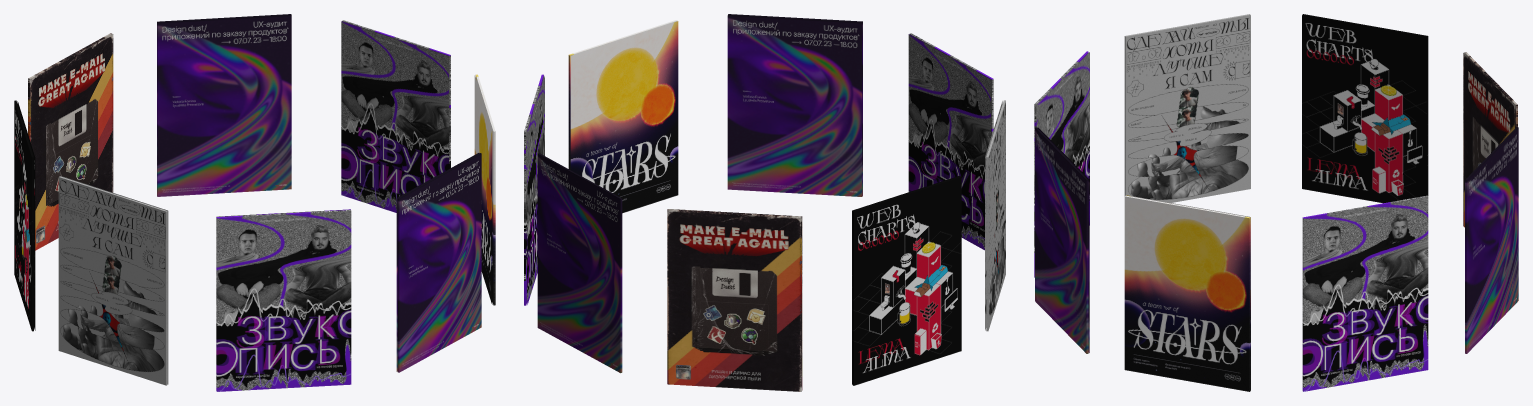
The picture shows the model from 3 angles, left to right: view 1: azimuth 30°, elevation 25°; view 2: azimuth 150°, elevation 25°; view 3: azimuth 270°, elevation 25°; orthographic projection.
Visible parts, largest first — view 1: 1_out, 5_in, 2_out, 6_in, 6_out.002, 4_in, 3_out, 6_in.001, 6_out.001, 6_out, 2_in, 6_in.002 (+3 smaller); view 2: 6_in.002, 4_out, 3_out, 6_in.001, 5_out, 1_in, 2_out, 6_in, 6_out, 6_out.001, 6_out.002, 2_in; view 3: 6_out.001, 6_out, 3_in, 2_in, 5_out, 6_out.002, 4_in, 1_in, 2_out, 3_out, 1_out, 6_in.002.
Boxes of the visible parts, <box> form: 1_out: <box>216,210,351,391</box>; 5_in: <box>157,15,291,196</box>; 2_out: <box>58,176,167,385</box>; 6_in: <box>341,21,448,212</box>; 6_out.002: <box>397,153,481,372</box>; 4_in: <box>30,34,113,250</box>; 3_out: <box>14,100,33,331</box>; 6_in.001: <box>474,75,492,304</box>; 6_out.001: <box>475,74,495,305</box>; 6_out: <box>342,20,450,168</box>; 2_in: <box>60,176,168,384</box>; 6_in.002: <box>396,153,478,371</box>; 6_in.002: <box>727,15,862,196</box>; 4_out: <box>667,209,801,391</box>; 3_out: <box>852,176,961,385</box>; 6_in.001: <box>570,21,678,213</box>; 5_out: <box>537,153,622,373</box>; 1_in: <box>908,34,990,250</box>; 2_out: <box>986,100,1005,331</box>; 6_in: <box>527,76,544,304</box>; 6_out: <box>524,74,543,305</box>; 6_out.001: <box>568,20,677,169</box>; 6_out.002: <box>728,14,862,196</box>; 2_in: <box>985,101,1002,330</box>; 6_out.001: <box>1124,195,1250,391</box>; 6_out: <box>1302,195,1428,391</box>; 3_in: <box>1302,15,1426,203</box>; 2_in: <box>1126,15,1250,202</box>; 5_out: <box>1465,127,1518,353</box>; 6_out.002: <box>1035,127,1088,353</box>; 4_in: <box>1463,53,1514,227</box>; 1_in: <box>1037,52,1089,225</box>; 2_out: <box>1124,14,1250,195</box>; 3_out: <box>1302,14,1428,195</box>; 1_out: <box>1034,51,1088,277</box>; 6_in.002: <box>1038,127,1089,352</box>.
Size of the model in its own units: 1.96 by 0.7754 by 1.96.
16 materials, 16 textured.
